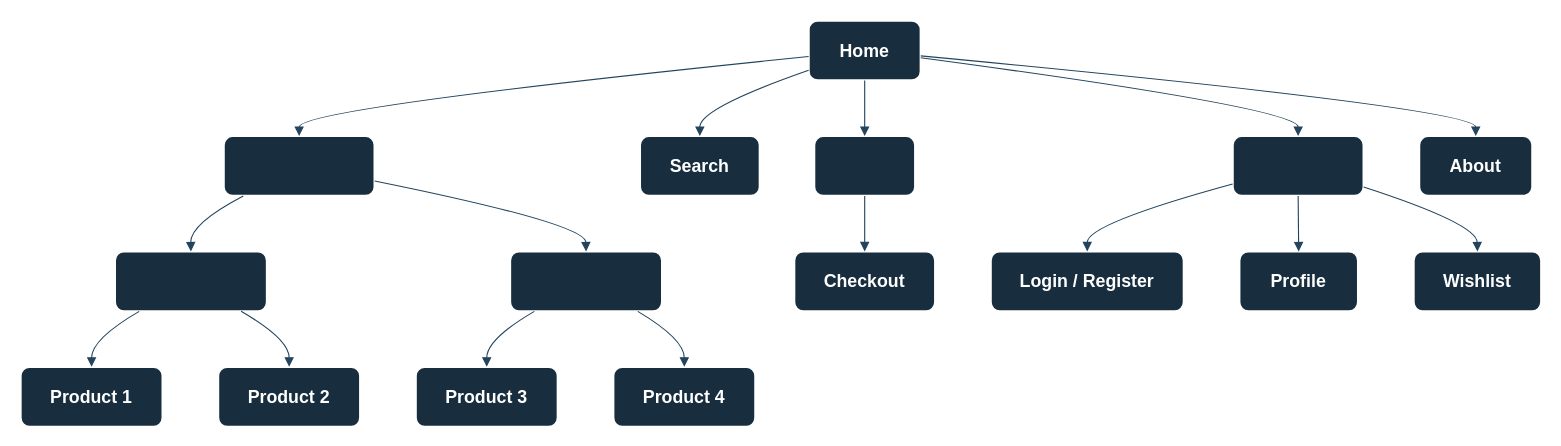
This 1561x446 diagram has some shape labels left out. The centre of each missing label's shape, as x and y in pixels:
Account: (x=1297, y=165)
Cart: (x=864, y=165)
Categories: (x=298, y=165)
Category 1: (x=190, y=281)
Category 2: (x=585, y=281)
